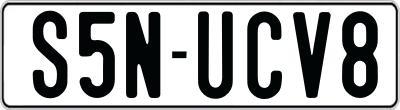5: (77, 11, 118, 98)
8: (340, 9, 376, 97)
C: (245, 11, 283, 99)
N: (123, 12, 163, 103)
S: (33, 8, 70, 98)
U: (196, 9, 233, 97)
V: (291, 11, 331, 102)
